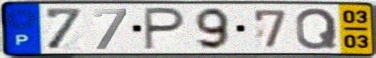7: (43, 6, 86, 52), (92, 7, 130, 50), (251, 8, 288, 50)
9: (192, 6, 232, 52)
P: (142, 6, 188, 52)
Q: (294, 6, 340, 51)
